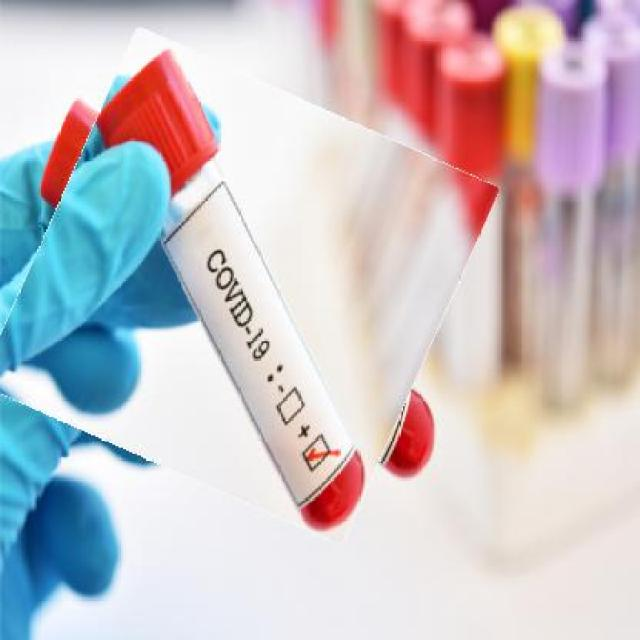Experimental-tube: (10, 59, 468, 513)
